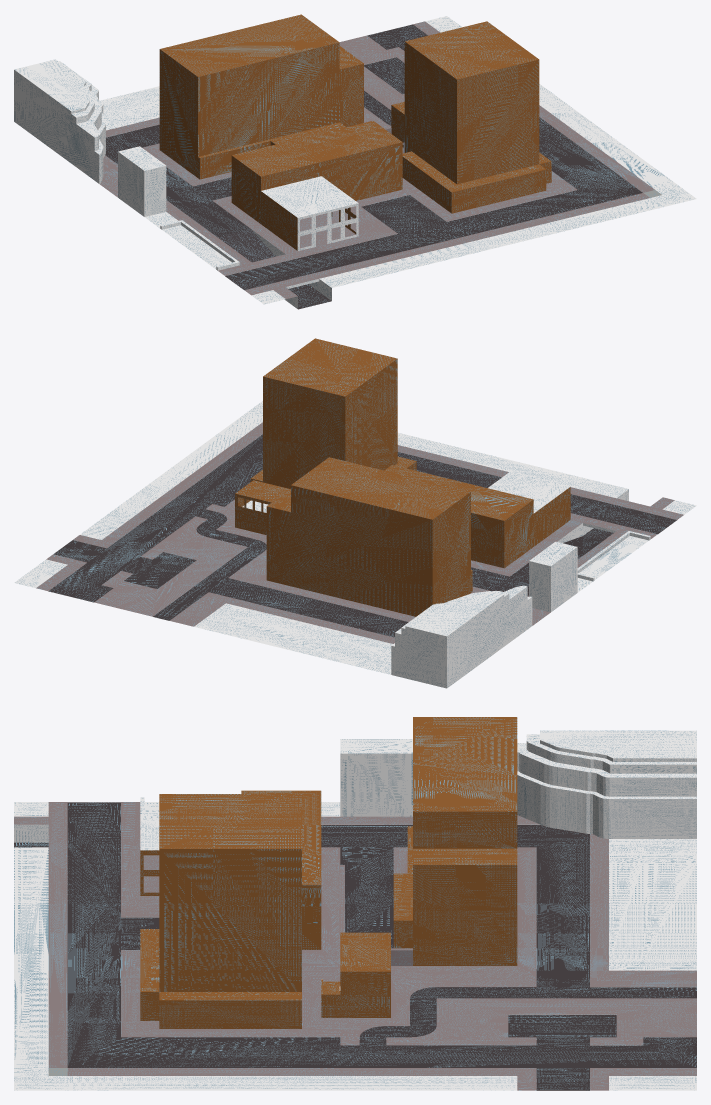
3 renders of one model, top to bottom at view 1: azimuth 30°, elevation 25°; view 2: azimuth 150°, elevation 25°; view 3: azimuth 270°, elevation 25°, orthographic. The views are drawn at different scales.
Visible parts, largest first — view 1: SketchUp (×12); view 2: SketchUp (×15); view 3: SketchUp (×15).
Part boxes in pixels (x1,y1,x2,y2): SketchUp (×12): (14,14,696,309); SketchUp (×15): (14,338,683,688); SketchUp (×15): (14,717,696,1090).
Bounding box in the file's own units: 198 × 198 × 60.88.
